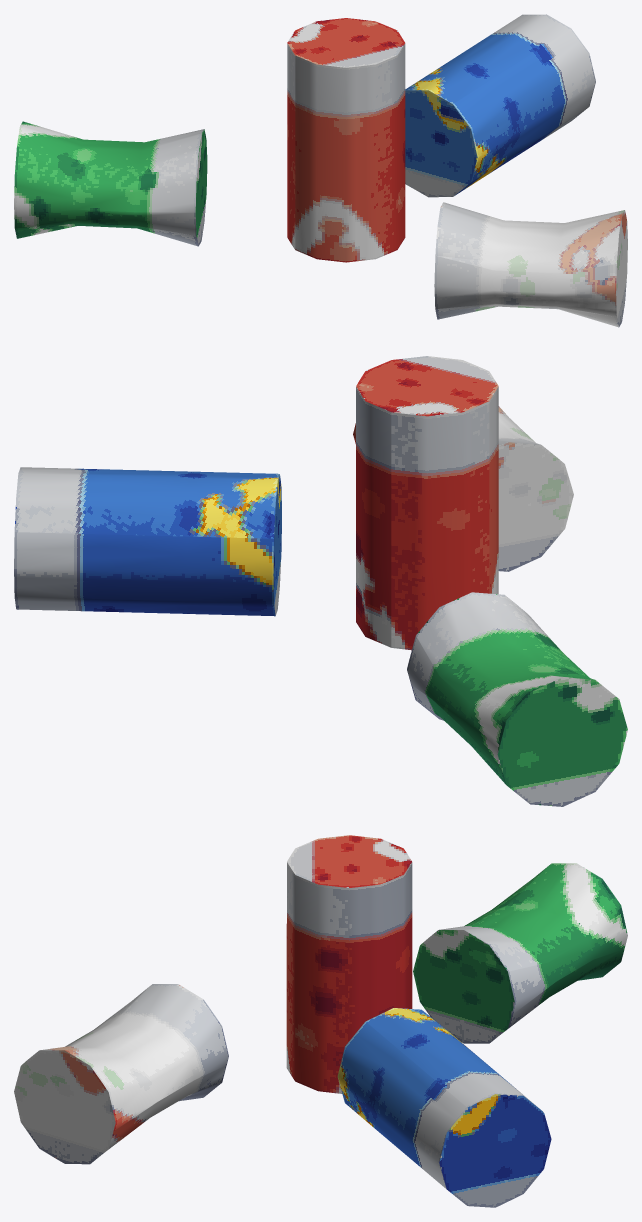
Rendered from drink_cans_own.glb.
3 renders of one model, top to bottom at view 1: azimuth 30°, elevation 25°; view 2: azimuth 150°, elevation 25°; view 3: azimuth 270°, elevation 25°, orthographic. The views are drawn at different scales.
Visible parts, largest first — view 1: mesh; view 2: mesh; view 3: mesh.
Boxes of the visible parts, x1,y1,x2,y2 form: mesh: (14,14,627,327); mesh: (14,356,627,806); mesh: (14,835,627,1207).
Bounding box in the file's own units: 0.315 × 0.12 × 0.2916.
Materials: 1 (1 with a texture image).
